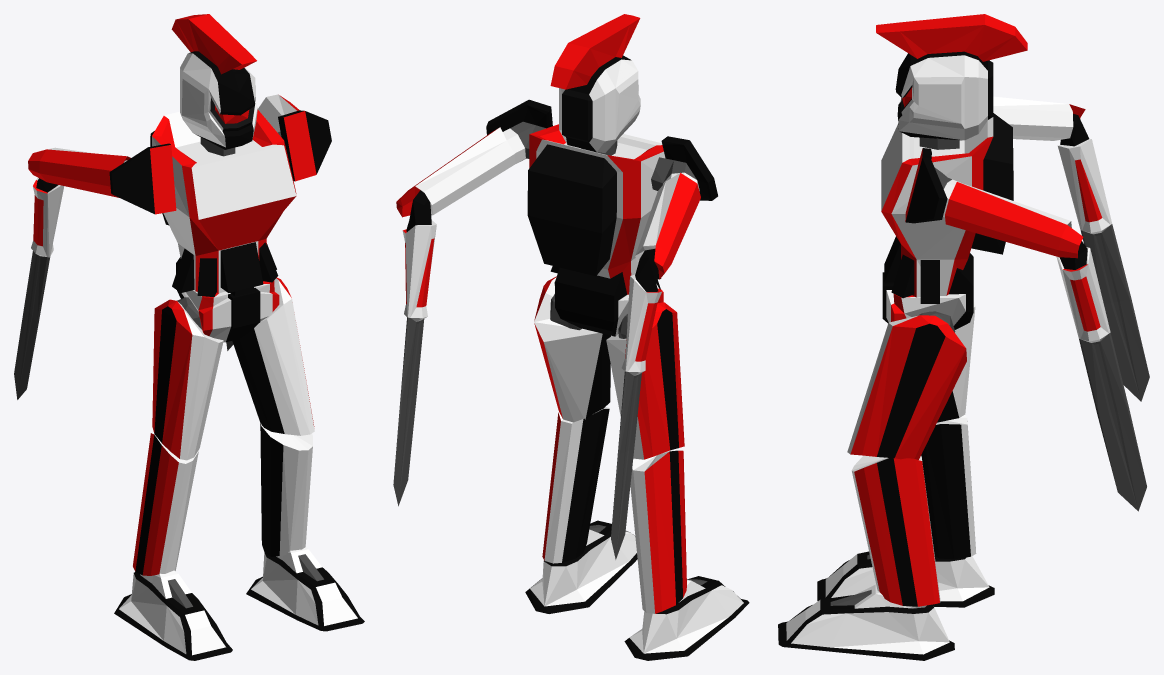
Rendered from robots_000007.obj.
The picture shows the model from 3 angles, left to right: view 1: azimuth 30°, elevation 25°; view 2: azimuth 150°, elevation 25°; view 3: azimuth 270°, elevation 25°; orthographic projection. The views are drawn at different scales.
Parts seen in each view (by area): view 1: Chest_plate_Cube.004, Head_gladiator_Cube.024, R_Thigh_Cube.005, R_Forearm.001_Cube.028, R_Thigh.002_Cube.027, R_Foot_Cube, R_Shin_Cube.007, R_Shin.002_Cube.029, R_Foot.002_Cube.035, Pelvis_Cube.006, R_Arm.002_Cube.032, R_Arm.003_Cube.034 (+1 smaller); view 2: Chest_plate_Cube.004, R_Forearm.002_Cube.033, R_Forearm.001_Cube.028, Head_gladiator_Cube.024, R_Shin_Cube.007, R_Shin.002_Cube.029, R_Thigh_Cube.005, R_Thigh.002_Cube.027, R_Foot_Cube, R_Foot.002_Cube.035, Pelvis_Cube.006, R_Arm.002_Cube.032 (+1 smaller); view 3: R_Forearm.002_Cube.033, Chest_plate_Cube.004, Head_gladiator_Cube.024, R_Thigh.002_Cube.027, R_Forearm.001_Cube.028, R_Shin.002_Cube.029, R_Foot.002_Cube.035, R_Shin_Cube.007, R_Foot_Cube, Pelvis_Cube.006, R_Arm.003_Cube.034, R_Thigh_Cube.005.
Part boxes in pixels (x1,y1,x2,y2): Chest_plate_Cube.004: (150, 110, 296, 296); Head_gladiator_Cube.024: (171, 14, 257, 149); R_Thigh_Cube.005: (152, 299, 223, 460); R_Forearm.001_Cube.028: (14, 147, 130, 399); R_Thigh.002_Cube.027: (232, 277, 314, 435); R_Foot_Cube: (114, 570, 232, 660); R_Shin_Cube.007: (133, 433, 198, 575); R_Shin.002_Cube.029: (260, 423, 312, 556); R_Foot.002_Cube.035: (246, 547, 364, 631); Pelvis_Cube.006: (176, 257, 279, 342); R_Arm.002_Cube.032: (109, 143, 176, 214); R_Arm.003_Cube.034: (277, 110, 331, 181); Chest_plate_Cube.004: (527, 124, 665, 294); R_Forearm.002_Cube.033: (393, 127, 515, 506); R_Forearm.001_Cube.028: (611, 172, 700, 559); Head_gladiator_Cube.024: (550, 14, 640, 152); R_Shin_Cube.007: (630, 450, 686, 613); R_Shin.002_Cube.029: (542, 407, 609, 563); R_Thigh_Cube.005: (606, 302, 684, 459); R_Thigh.002_Cube.027: (534, 276, 610, 422); R_Foot_Cube: (624, 576, 749, 660); R_Foot.002_Cube.035: (525, 520, 637, 613); Pelvis_Cube.006: (554, 267, 663, 336); R_Arm.002_Cube.032: (651, 136, 717, 200); R_Forearm.002_Cube.033: (945, 182, 1146, 511); Chest_plate_Cube.004: (881, 113, 1013, 303); Head_gladiator_Cube.024: (876, 14, 1027, 140); R_Thigh.002_Cube.027: (847, 315, 966, 459); R_Forearm.001_Cube.028: (993, 96, 1149, 401); R_Shin.002_Cube.029: (851, 455, 940, 606); R_Foot.002_Cube.035: (778, 584, 954, 660); R_Shin_Cube.007: (921, 415, 976, 559); R_Foot_Cube: (817, 551, 994, 607); Pelvis_Cube.006: (882, 253, 973, 329); R_Arm.003_Cube.034: (905, 148, 960, 223); R_Thigh_Cube.005: (937, 301, 975, 422).
Size of the model in its own units: 1.51 by 3.19 by 1.77.
